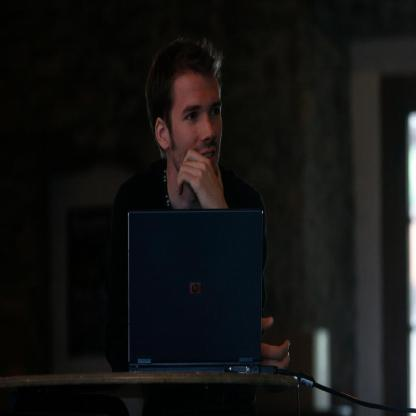board: (108, 199, 274, 386)
